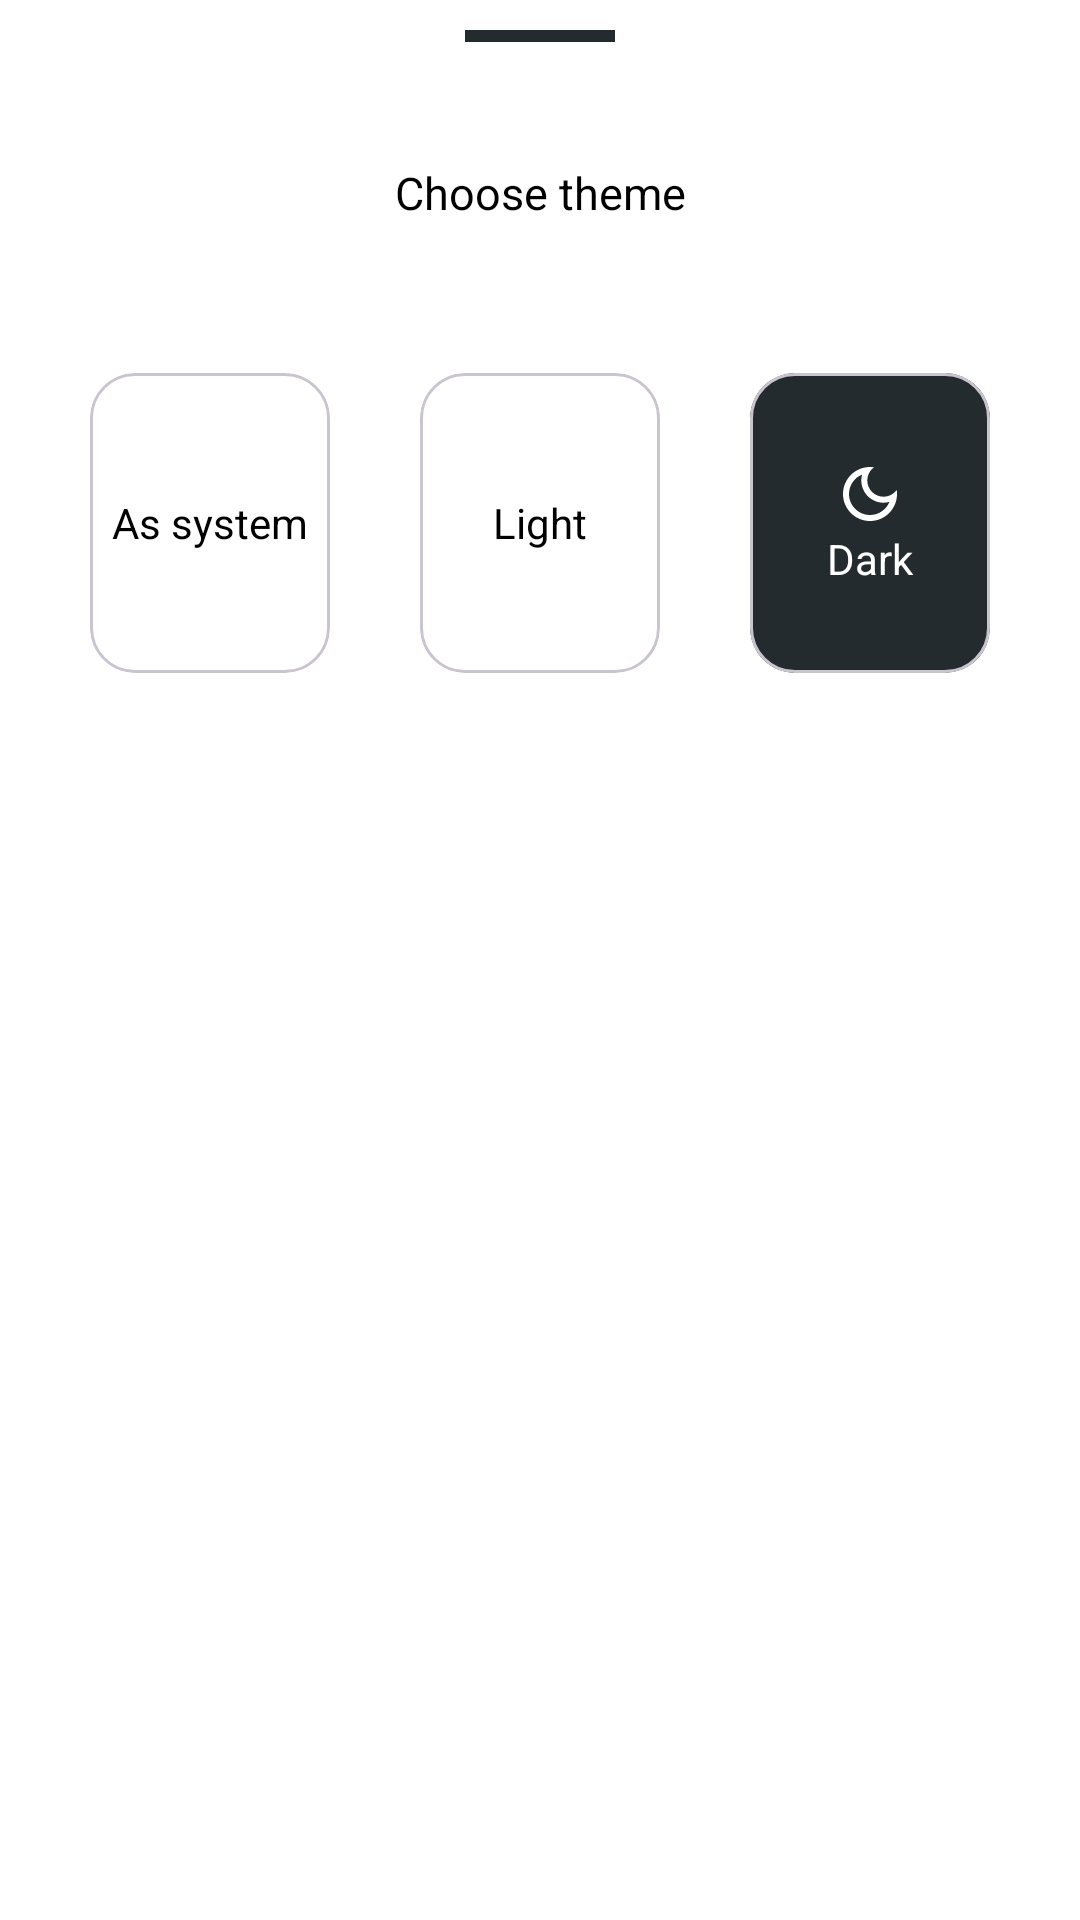

Screen size 1080w x 1920h. Icon name, then its box in pixels as (x1, y1, x2, y2):
theme: (843, 467, 897, 521)
